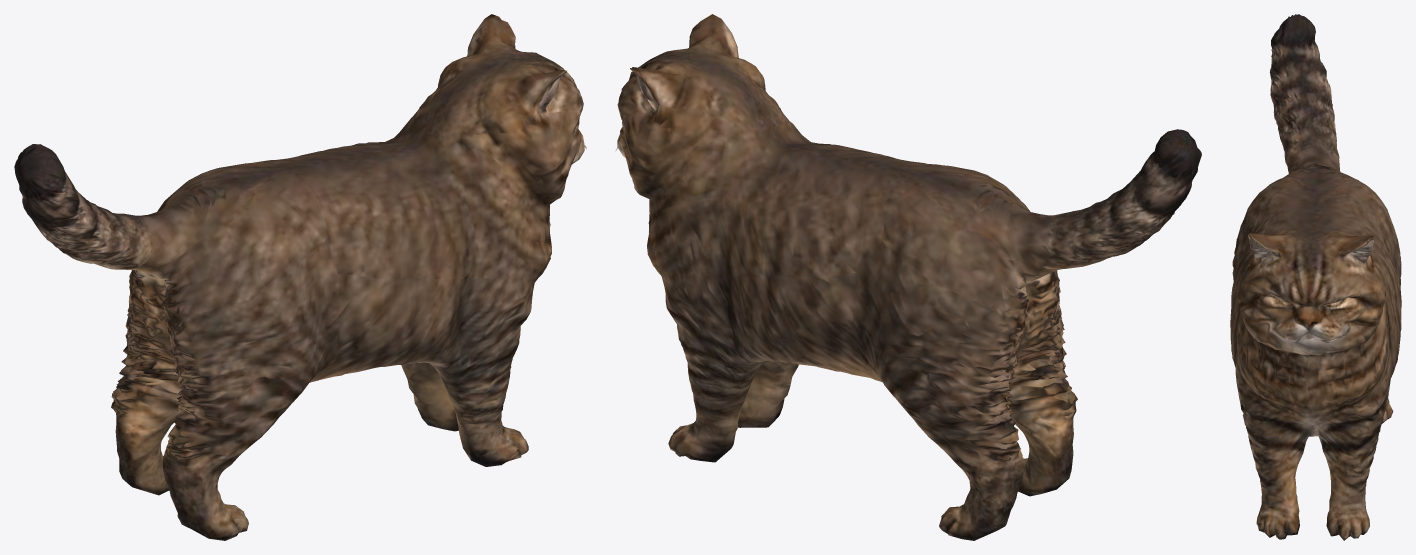
Rendered from TSUSAN-lo.glb.
3 views of the same model, side by side, from view 1: azimuth 30°, elevation 25°; view 2: azimuth 150°, elevation 25°; view 3: azimuth 270°, elevation 25° (orthographic). The views are drawn at different scales.
Visible parts, largest first — view 1: tripo_node_f86d1c37-1fae-482a-bc69-5e112a63d297; view 2: tripo_node_f86d1c37-1fae-482a-bc69-5e112a63d297; view 3: tripo_node_f86d1c37-1fae-482a-bc69-5e112a63d297.
Part boxes in pixels (x1,y1,x2,y2): tripo_node_f86d1c37-1fae-482a-bc69-5e112a63d297: (14,14,586,540); tripo_node_f86d1c37-1fae-482a-bc69-5e112a63d297: (615,14,1201,540); tripo_node_f86d1c37-1fae-482a-bc69-5e112a63d297: (1230,14,1401,540).
Bounding box in the file's own units: 1.43 × 0.9996 × 0.46.
Materials: 1 (1 with a texture image).
